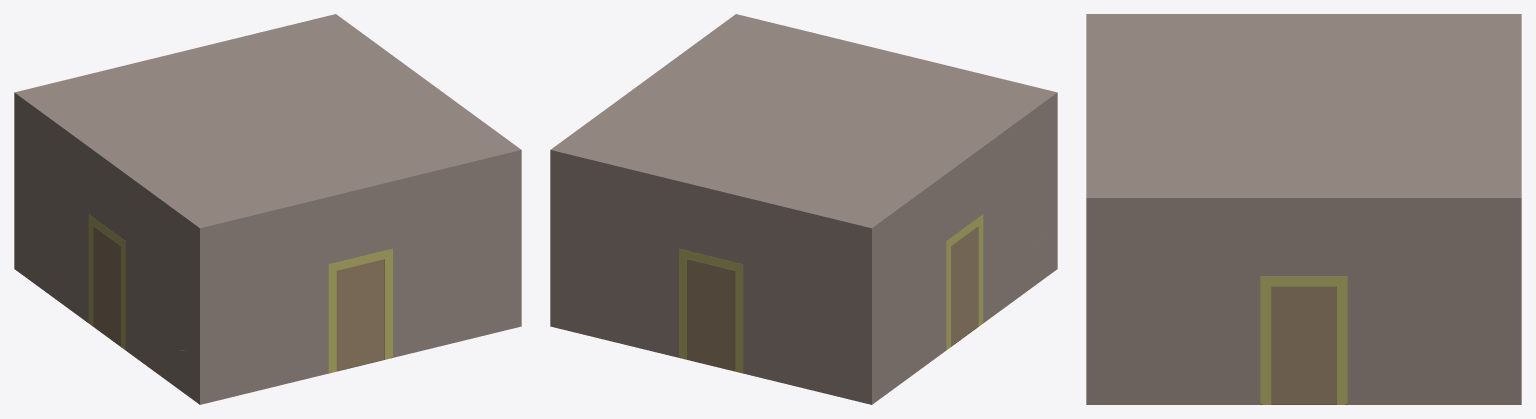
File: Room05_BasementLanding.fbx
3 views of the same model, side by side, from view 1: azimuth 30°, elevation 25°; view 2: azimuth 150°, elevation 25°; view 3: azimuth 270°, elevation 25° (orthographic). The views are drawn at different scales.
Parts seen in each view (by area): view 1: Roof, WallSlicedPosZ, WallSlicedPosX, DoorPosZ, DoorPosX, DoorFramePosZ, DoorFramePosX, WallSlicedNegX, WallSlicedNegZ; view 2: Roof, WallSlicedNegZ, WallSlicedPosX, DoorNegZ, DoorPosX, DoorFrameNegZ, DoorFramePosX, WallSlicedPosZ, WallSlicedNegX; view 3: Roof, WallSlicedNegX, DoorNegX, DoorFrameNegX, WallSlicedNegZ, WallSlicedPosZ, WallSlicedPosX.
Part boxes in pixels (x1,y1,x2,y2): Roof: (17, 15, 518, 227); WallSlicedPosZ: (198, 149, 521, 404); WallSlicedPosX: (14, 92, 201, 404); DoorPosZ: (336, 259, 384, 370); DoorPosX: (93, 226, 120, 346); DoorFramePosZ: (328, 248, 392, 372); DoorFramePosX: (88, 214, 125, 349); WallSlicedNegX: (335, 14, 521, 326); WallSlicedNegZ: (14, 14, 336, 267); Roof: (553, 15, 1054, 227); WallSlicedNegZ: (550, 149, 873, 404); WallSlicedPosX: (869, 92, 1056, 404); DoorNegZ: (687, 259, 735, 370); DoorPosX: (951, 226, 978, 346); DoorFrameNegZ: (679, 248, 743, 372); DoorFramePosX: (946, 214, 983, 349); WallSlicedPosZ: (735, 14, 1057, 269); WallSlicedNegX: (550, 14, 735, 326); Roof: (1088, 14, 1519, 197); WallSlicedNegX: (1086, 197, 1521, 404); DoorNegX: (1271, 286, 1336, 404); DoorFrameNegX: (1260, 276, 1347, 404); WallSlicedNegZ: (1518, 14, 1521, 404); WallSlicedPosZ: (1086, 14, 1089, 404); WallSlicedPosX: (1088, 14, 1521, 14).
Bounding box in the file's own units: 100 × 52.54 × 100.
